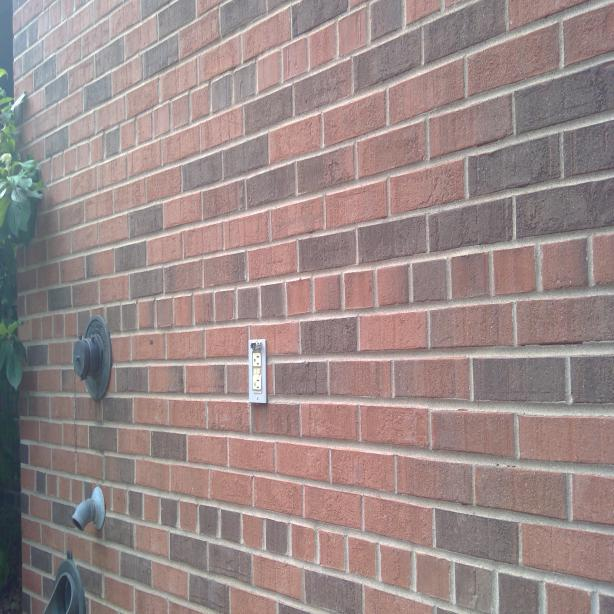typeb: (251, 354, 262, 369), (252, 376, 262, 391)
